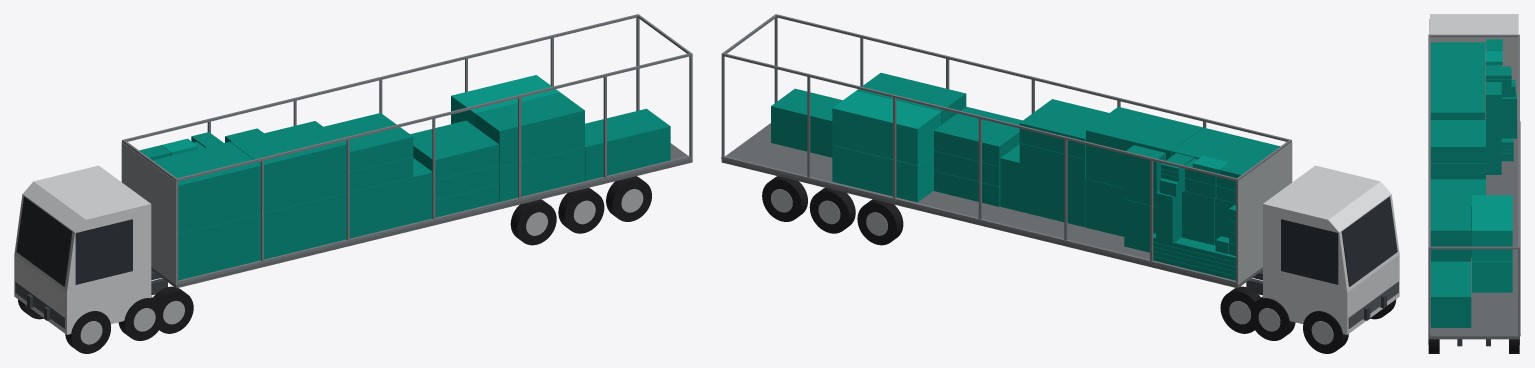
File: carreta-BL01.glb
3 renders of one model, left to right at view 1: azimuth 30°, elevation 25°; view 2: azimuth 150°, elevation 25°; view 3: azimuth 270°, elevation 25°, orthographic. The views are drawn at different scales.
Visible parts, largest first — view 1: cabine, part59, part57, part68, part70, part60, frente, part58, part56, part65, part62, janela (+17 smaller); view 2: cabine, piso, part69, part59, part60, frente, part67, part70, part65, part62, janela, part27 (+22 smaller); view 3: piso, part70, part68, part69, part62, part59, part57, cabine, part67, frente, part65, part61 (+19 smaller).
Boxes of the visible parts, <box> form: cabine: <box>14,165,151,334</box>; part59: <box>230,121,346,213</box>; part57: <box>153,142,260,234</box>; part68: <box>475,93,584,167</box>; part70: <box>585,108,670,180</box>; part60: <box>349,158,432,238</box>; frente: <box>121,142,176,284</box>; part58: <box>264,193,346,259</box>; part56: <box>178,214,260,280</box>; part65: <box>410,120,498,179</box>; part62: <box>323,113,413,171</box>; janela: <box>75,219,132,284</box>; cabine: <box>1263,165,1399,334</box>; piso: <box>721,123,1262,288</box>; part69: <box>832,90,941,165</box>; part59: <box>1086,106,1203,187</box>; part60: <box>1000,144,1085,227</box>; frente: <box>1238,142,1292,284</box>; part67: <box>832,145,933,202</box>; part70: <box>771,88,842,157</box>; part65: <box>934,106,1022,166</box>; part62: <box>1019,99,1108,158</box>; janela: <box>1281,219,1338,284</box>; part27: <box>1341,196,1397,286</box>; piso: <box>1428,123,1519,339</box>; part70: <box>1430,262,1471,327</box>; part68: <box>1430,195,1471,261</box>; part69: <box>1472,195,1512,261</box>; part62: <box>1430,120,1485,163</box>; part59: <box>1430,77,1484,119</box>; part57: <box>1430,42,1484,77</box>; cabine: <box>1430,14,1518,34</box>; part67: <box>1472,261,1512,292</box>; frente: <box>1430,37,1517,123</box>; part65: <box>1430,179,1485,222</box>; part61: <box>1430,163,1485,179</box>.
Size of the model in its own units: 17.14 by 3.99 by 2.58.
